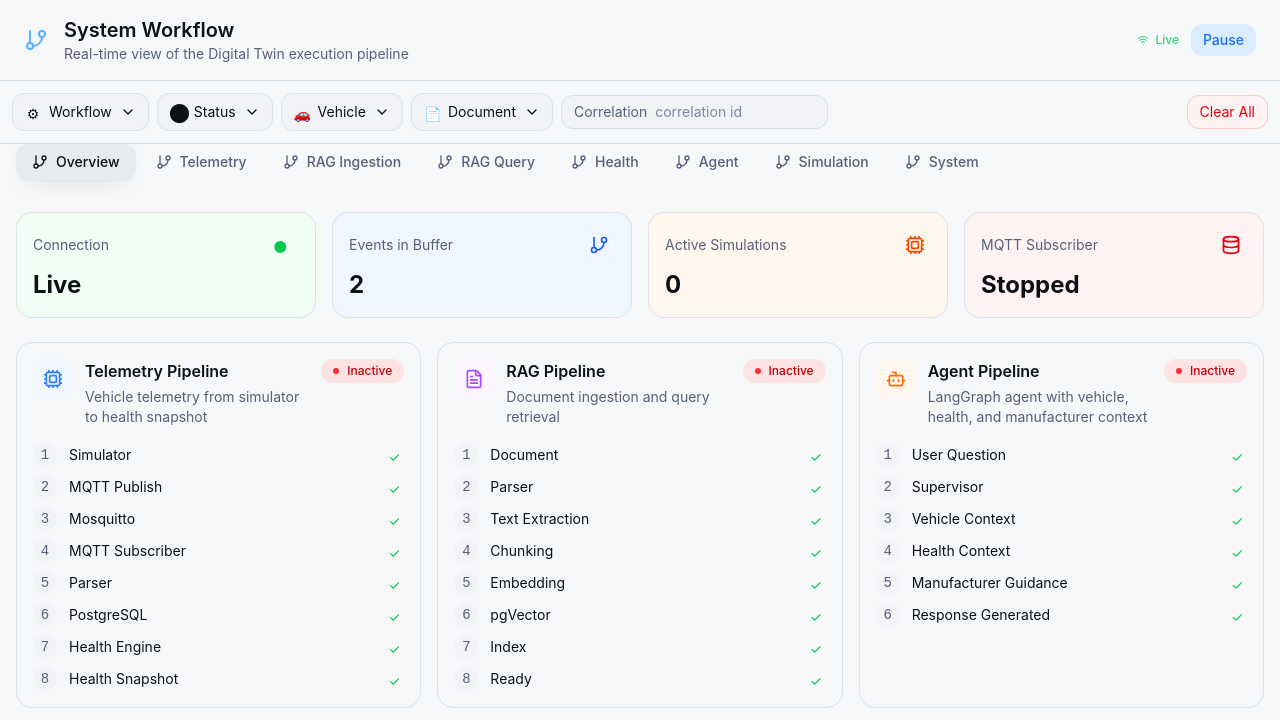
it: WorkflowView monitor controls › renders Simulation and System tabs and their events
Click the tab "Simulation": (822, 162) x1=759 y1=144 x2=885 y2=180
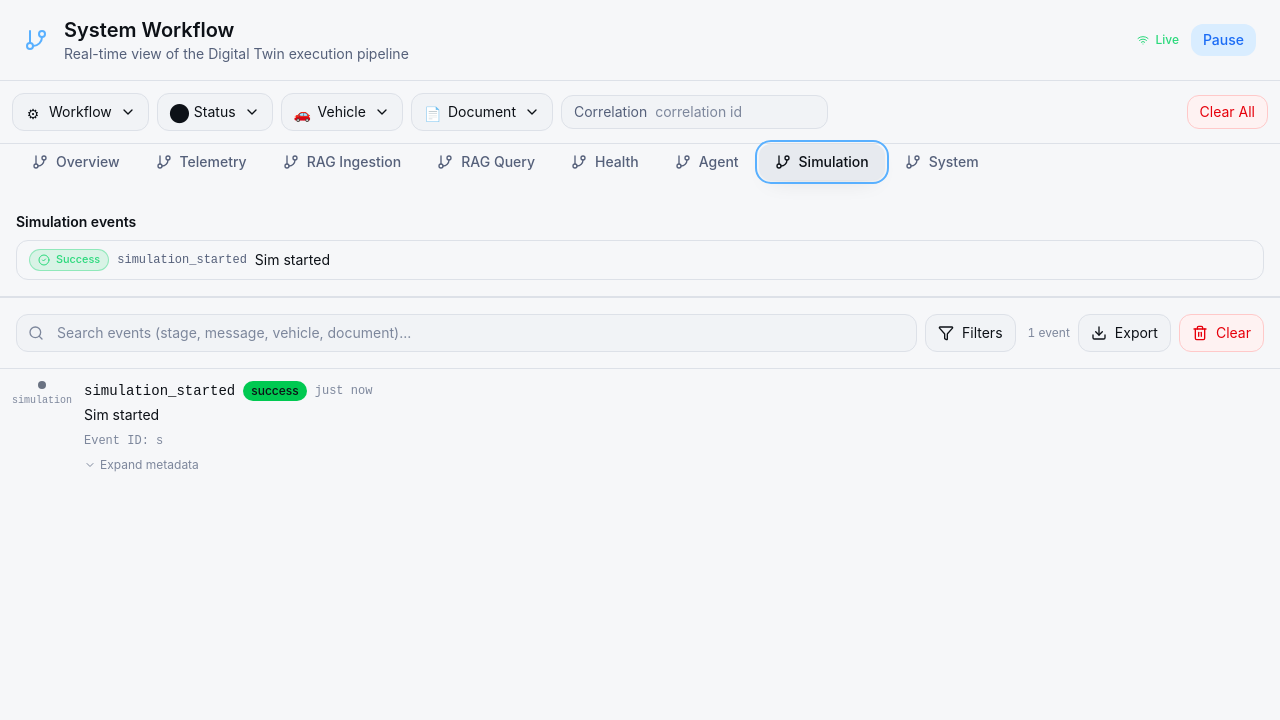
Check: the heading "Simulation events" is shown, box x1=16 y1=213 x2=136 y2=230
Click the tab "System": (942, 162) x1=889 y1=144 x2=995 y2=180
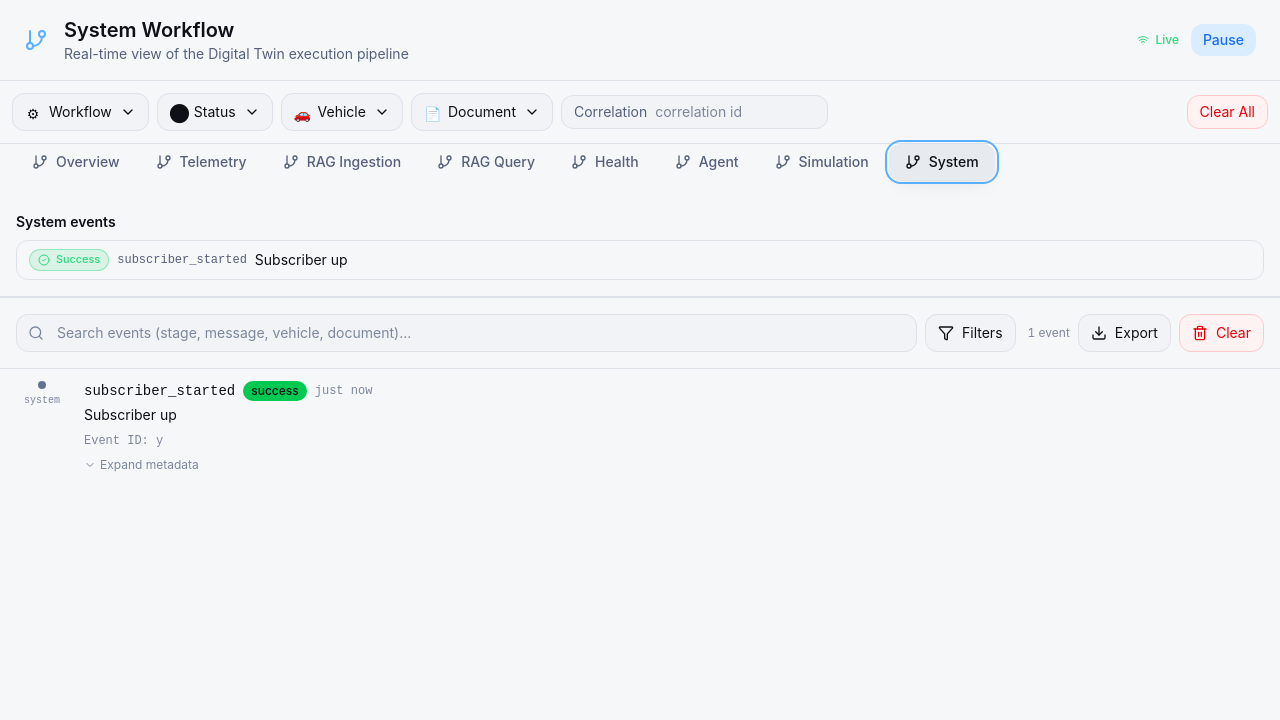
Check: the heading "System events" is shown, box x1=16 y1=213 x2=116 y2=230
